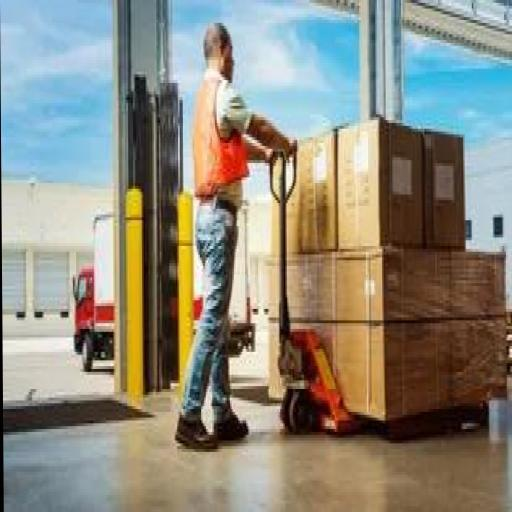safety_boots: (173, 412, 222, 460), (210, 411, 262, 446)
